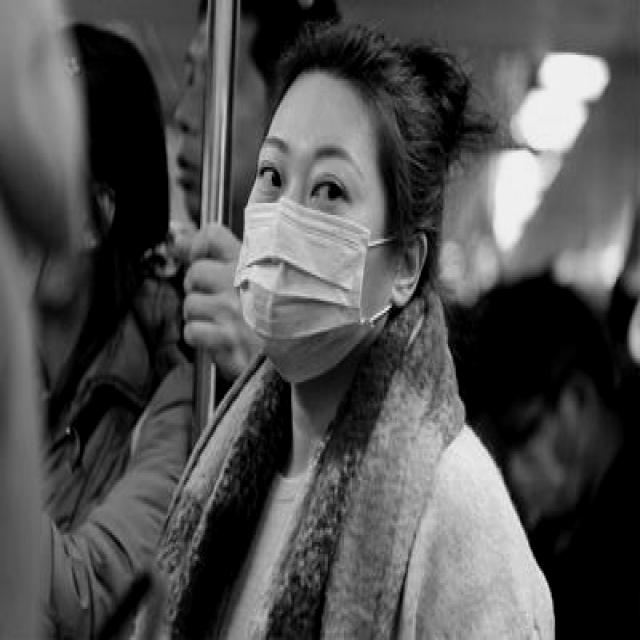face_mask: (235, 126, 392, 387), (498, 404, 586, 530)
face_nomask: (171, 38, 267, 227)
hand_noglove: (175, 212, 249, 354)
head_nohelmet: (280, 29, 440, 136), (91, 45, 176, 234), (456, 279, 584, 399)
person: (139, 2, 512, 640)
